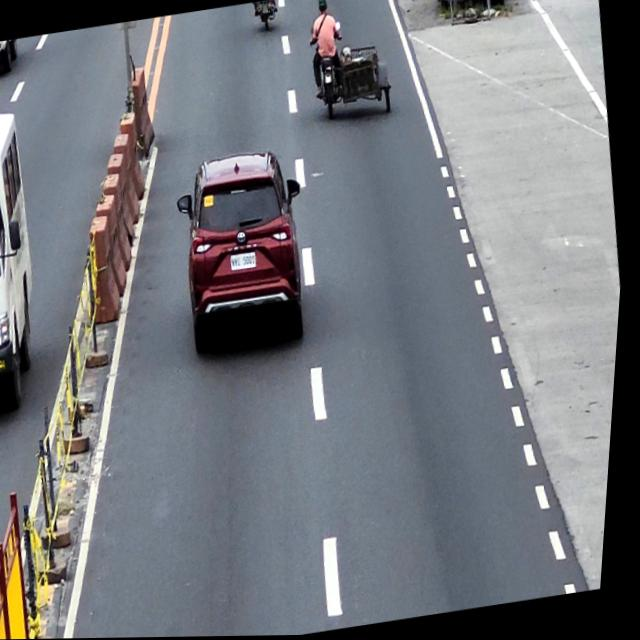Car: (166, 146, 327, 359), (0, 108, 64, 417)
License-Plate: (233, 252, 262, 272)
Tricycle: (307, 16, 401, 125)
